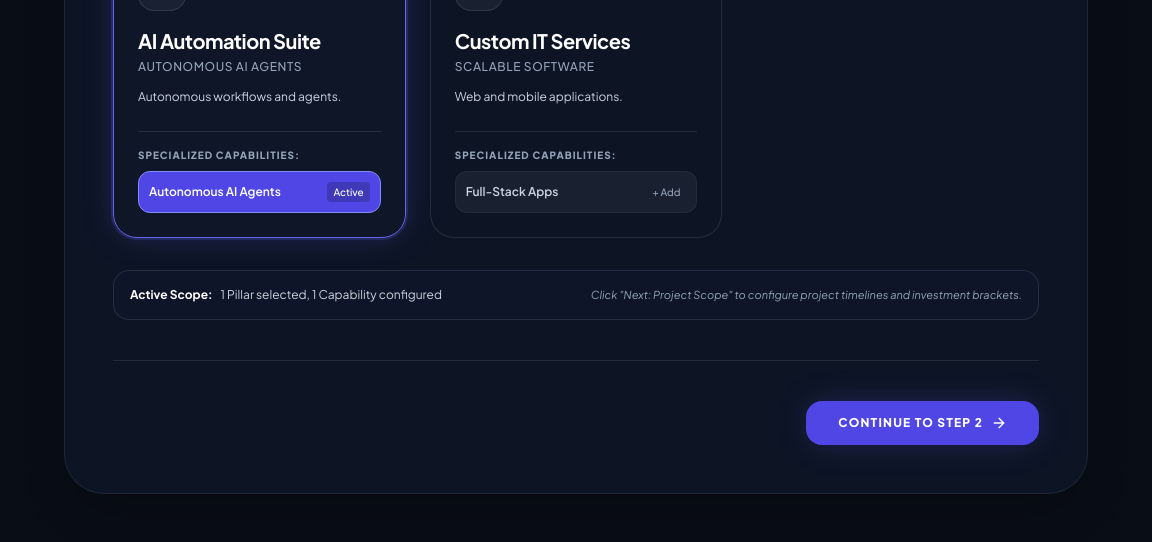
Test: InquiryConfigurator Component Test Suite › validates minimum description length on Step 3
This screenshot has width=1152, height=542.
(page scrolled)
What coordinates should you click on to do the following:
click the button "Continue to Step 2"
I would click on:
 (923, 422)
Its box is top-left (806, 400), bottom-right (1039, 444).
(page scrolled)
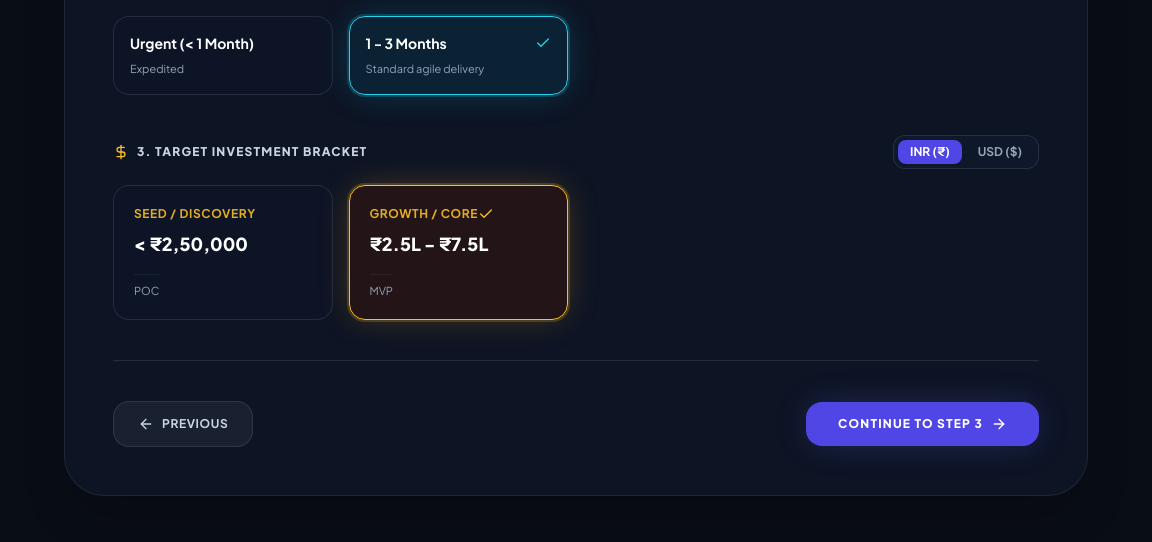
What coordinates should you click on to do the following:
click the button "Continue to Step 3"
I would click on:
 (923, 424)
Its box is top-left (806, 402), bottom-right (1039, 446).
(page scrolled)
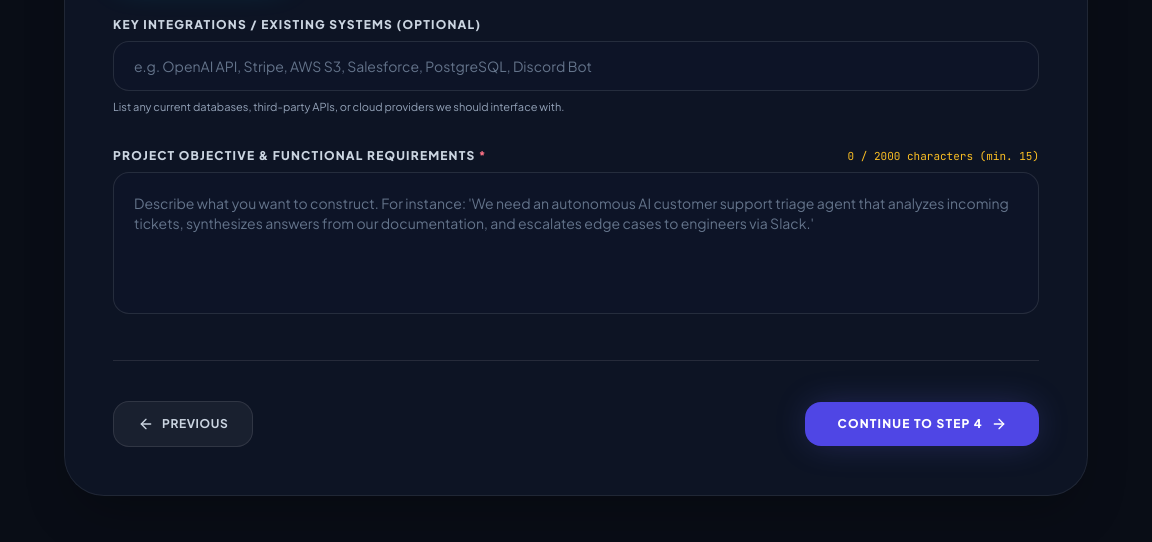
# Attempt to proceed without entering description
What coordinates should you click on to do the following:
click the button "Continue to Step 4"
I would click on:
 (922, 424)
Its box is top-left (806, 402), bottom-right (1039, 446).
(page scrolled)
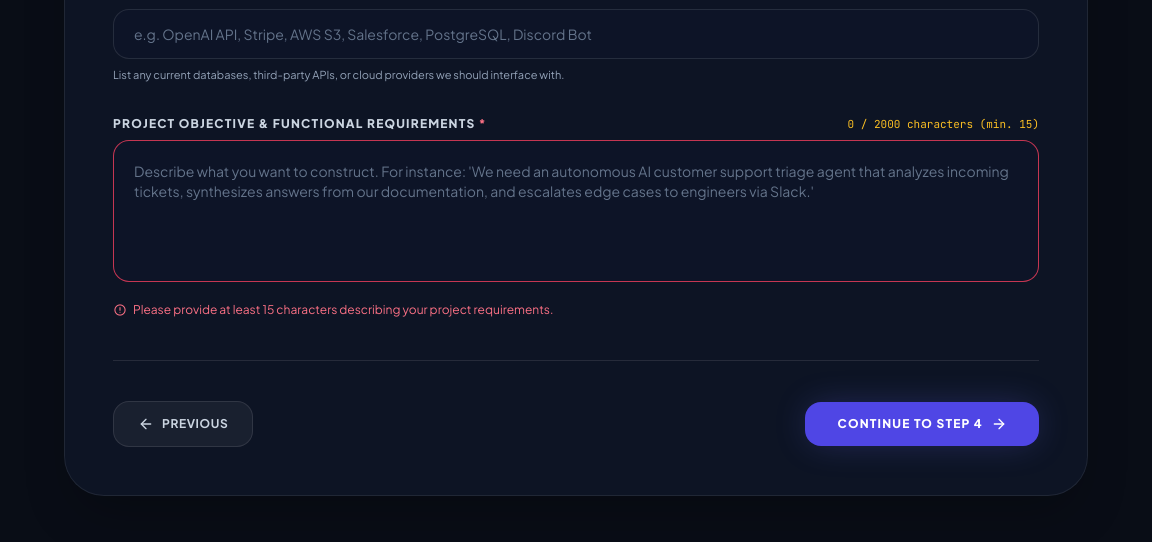
Expected: the text "Please provide at least 15 characters" is shown, top-left (133, 302), bottom-right (553, 317)
